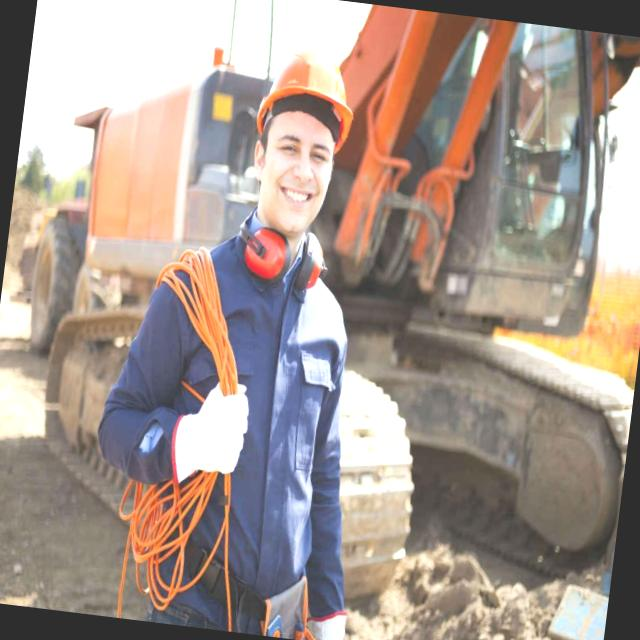helmet: (248, 46, 366, 157)
no-goggles: (255, 124, 342, 174)
no-vest: (138, 196, 360, 550)
